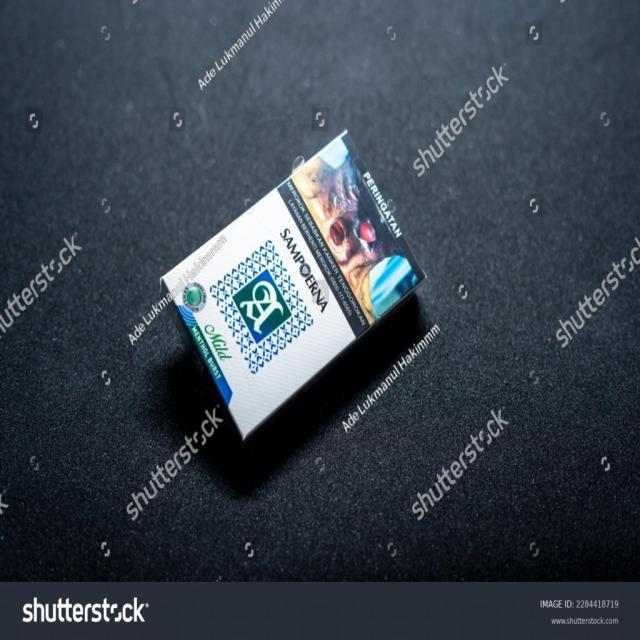smoking: (130, 127, 458, 441)
